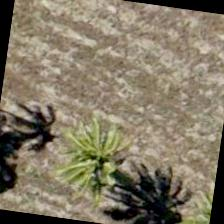Kelapa_Sawit: (50, 96, 152, 198)
